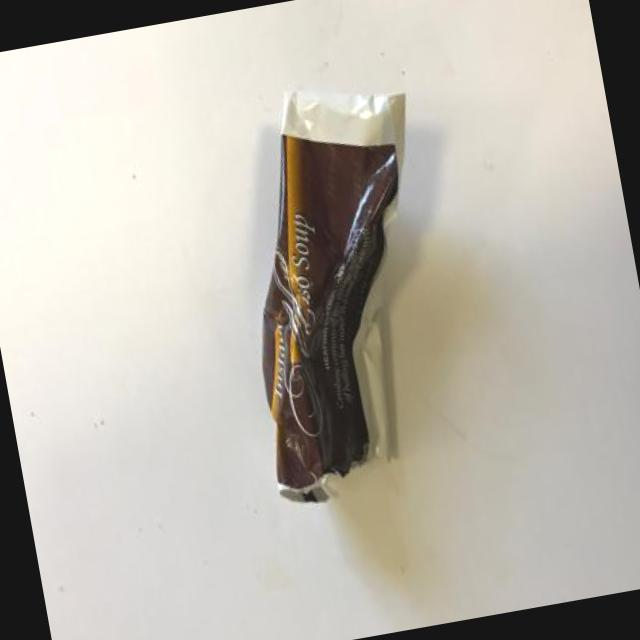Trash: (210, 69, 474, 512)
